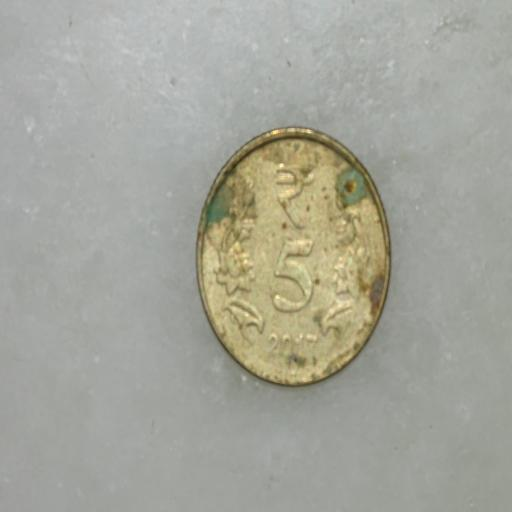rupee5: (194, 125, 391, 384)
